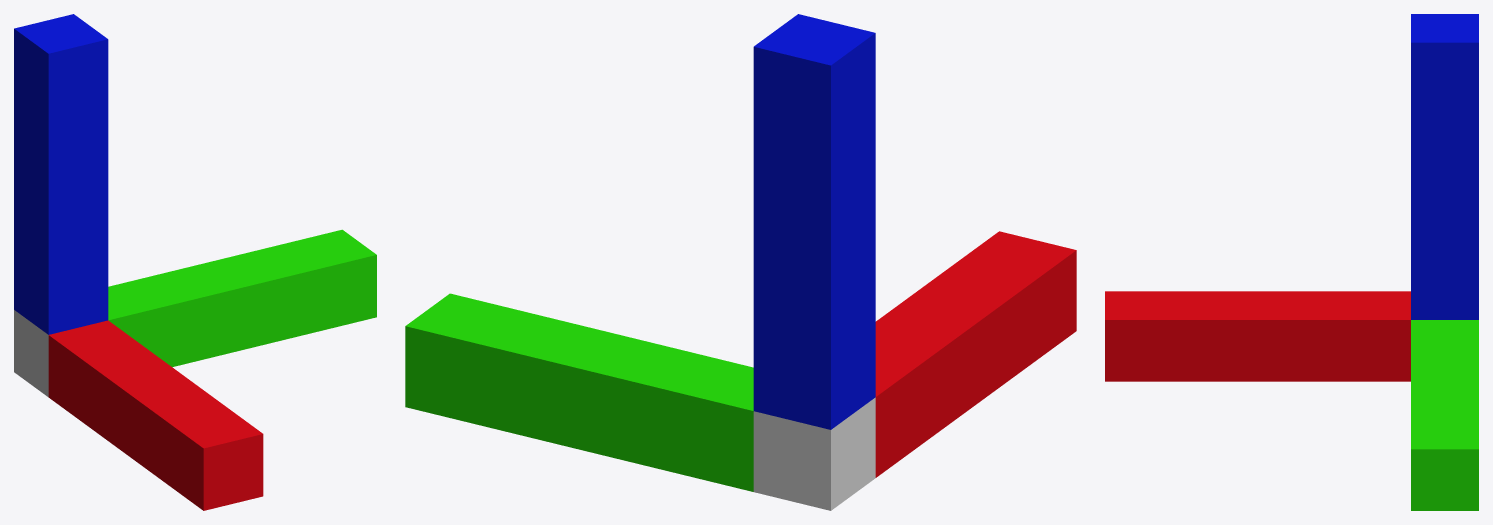
The model's file is RightCoordinate.fbx.
3 renders of one model, left to right at view 1: azimuth 30°, elevation 25°; view 2: azimuth 150°, elevation 25°; view 3: azimuth 270°, elevation 25°, orthographic. The views are drawn at different scales.
Visible parts, largest first — view 1: Cube.001; view 2: Cube.001; view 3: Cube.001.
Part boxes in pixels (<box>): Cube.001: <box>14,14,376,510</box>; Cube.001: <box>405,14,1076,510</box>; Cube.001: <box>1105,14,1478,510</box>.
Size of the model in its own units: 27.5 by 27.5 by 27.5.
